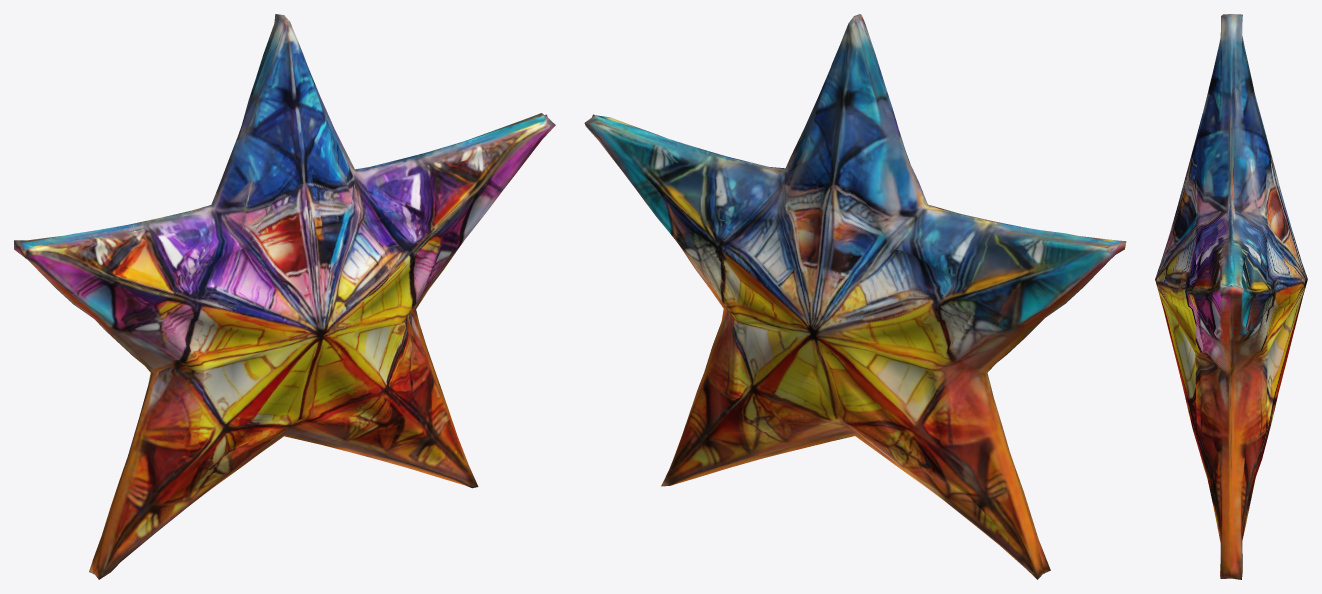
The model's file is testStarRainbow.glb.
The picture shows the model from 3 angles, left to right: view 1: azimuth 30°, elevation 25°; view 2: azimuth 150°, elevation 25°; view 3: azimuth 270°, elevation 25°; orthographic projection. The views are drawn at different scales.
Parts seen in each view (by area): view 1: Mesh_0; view 2: Mesh_0; view 3: Mesh_0.
Boxes of the visible parts, x1,y1,x2,y2 form: Mesh_0: [14, 14, 555, 579]; Mesh_0: [584, 14, 1126, 579]; Mesh_0: [1155, 14, 1307, 579].
Bounding box in the file's own units: 1.08 × 1 × 0.288.
Materials: 1 (1 with a texture image).
